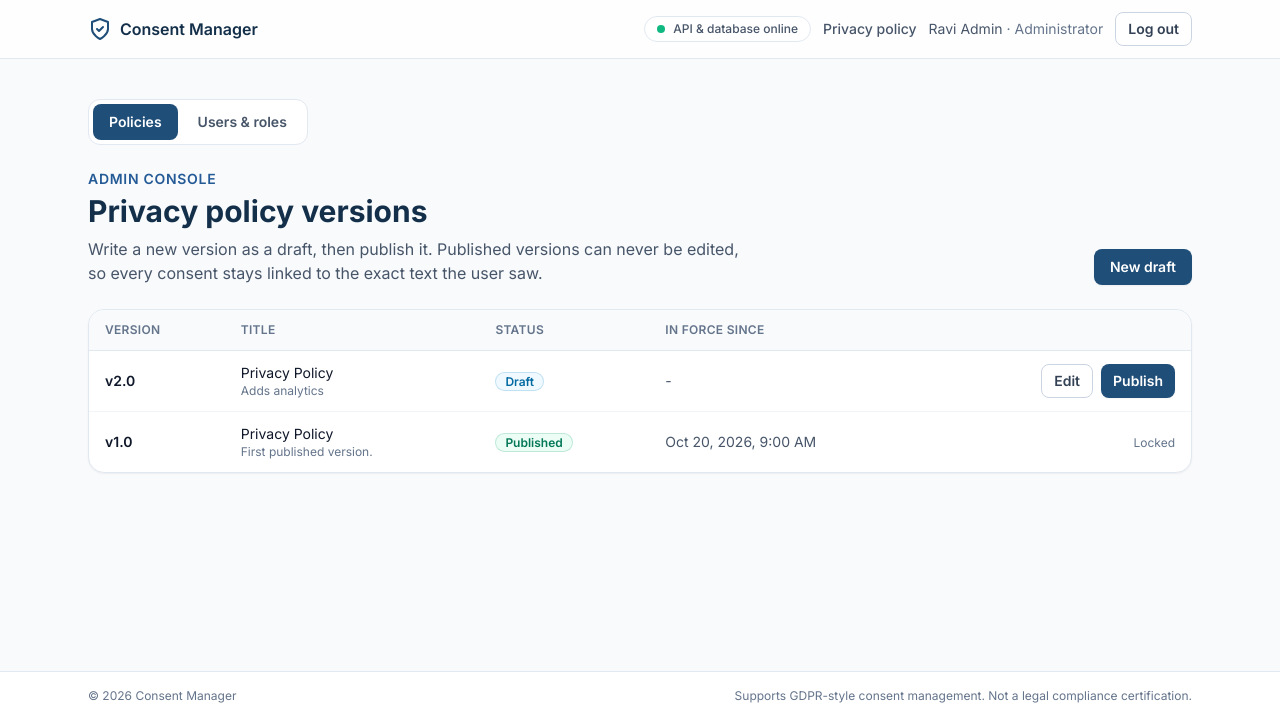
admin policy editor (FR-13, FR-14, FR-15) › publishing asks for confirmation first
Click the button "Publish" at (1138, 381), box [1101,364,1175,398]
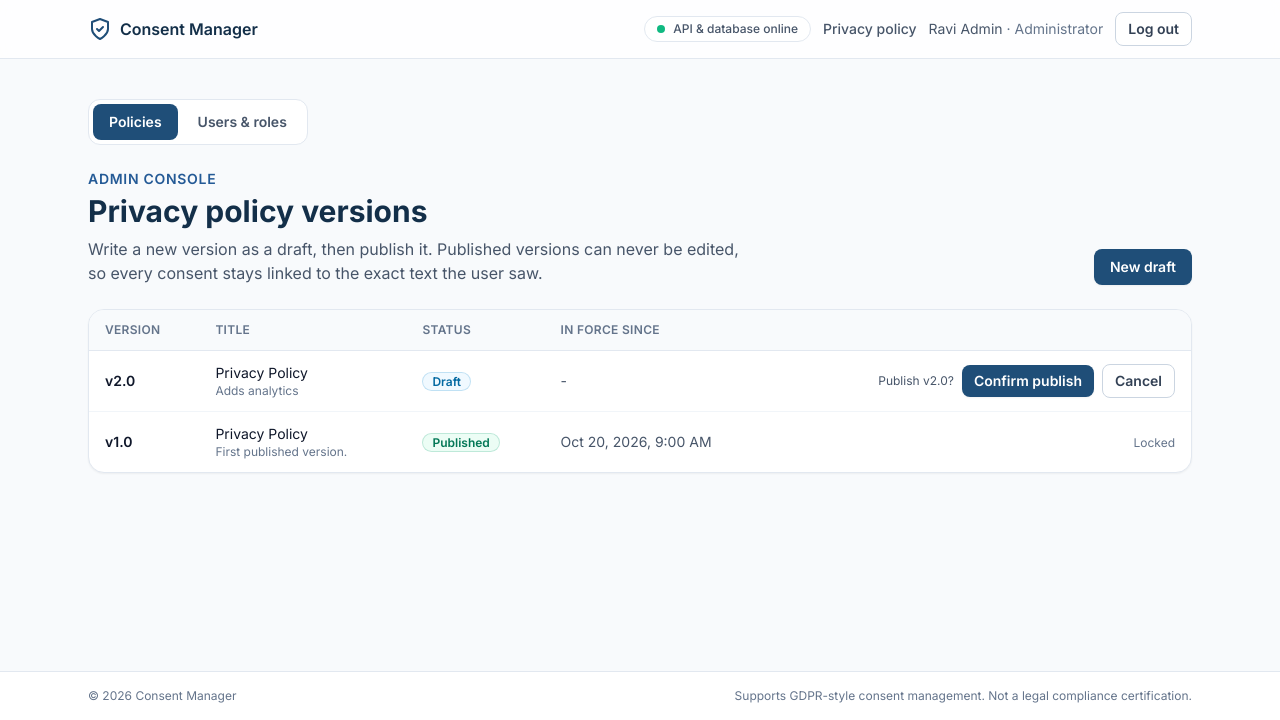
Click the button "Confirm publish" at (1028, 381), box [962,365,1094,397]
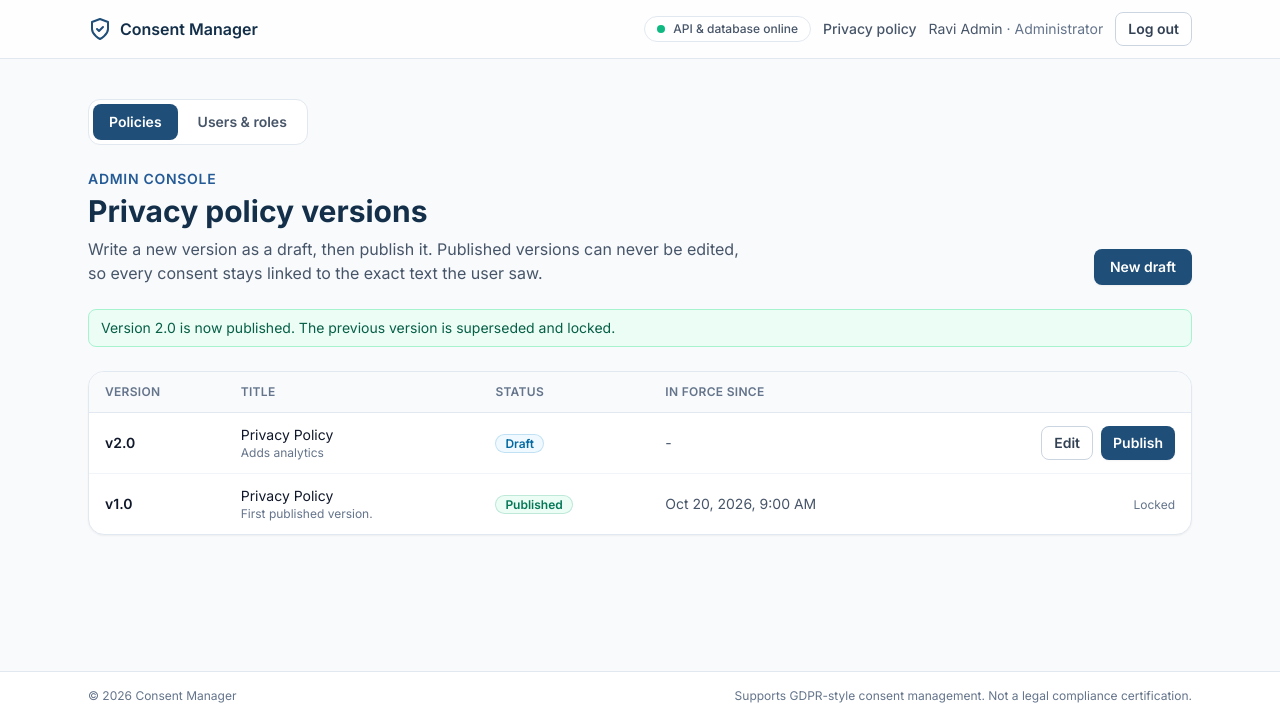
expect the text "Version 2.0 is now published. The previous version is superseded and locked." is shown: met, box [88,309,1192,347]
